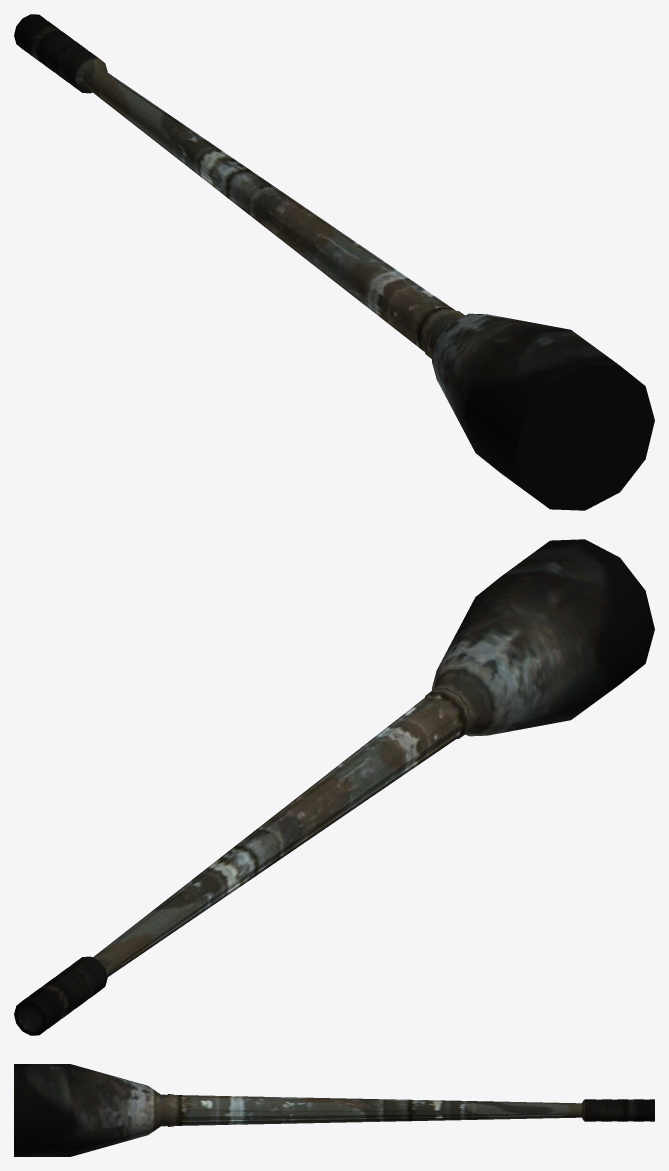
File: Ptt.FBX
3 renders of one model, top to bottom at view 1: azimuth 30°, elevation 25°; view 2: azimuth 150°, elevation 25°; view 3: azimuth 270°, elevation 25°, orthographic. The views are drawn at different scales.
Visible parts, largest first — view 1: cannon01; view 2: cannon01; view 3: cannon01.
Part boxes in pixels (box(x1,y1,x2,y2)): cannon01: box(14, 14, 654, 510); cannon01: box(14, 539, 654, 1035); cannon01: box(14, 1064, 654, 1156).
Size of the model in its own units: 0.3559 by 0.3559 by 2.45.
